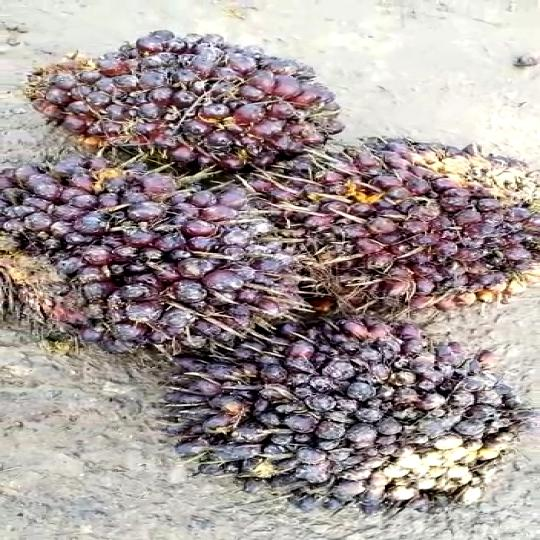kurang masak: (182, 332, 532, 512), (0, 162, 288, 369), (266, 142, 540, 336), (29, 33, 379, 161)
